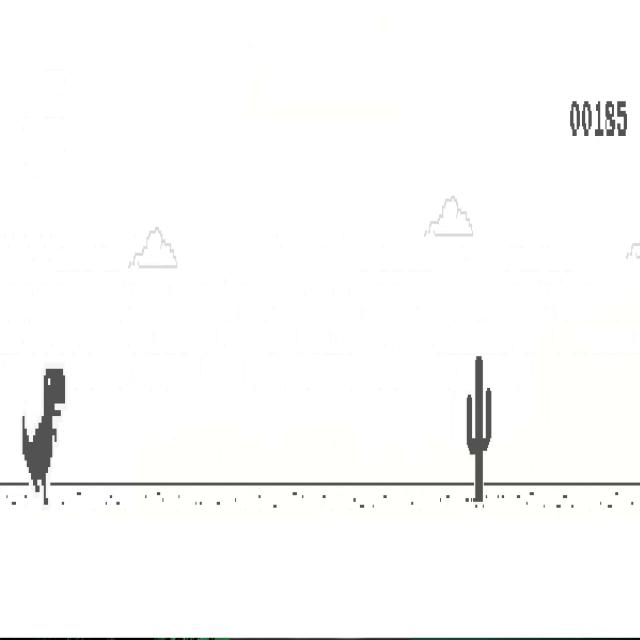cacto: (466, 354, 492, 505)
dino: (21, 368, 66, 507)
